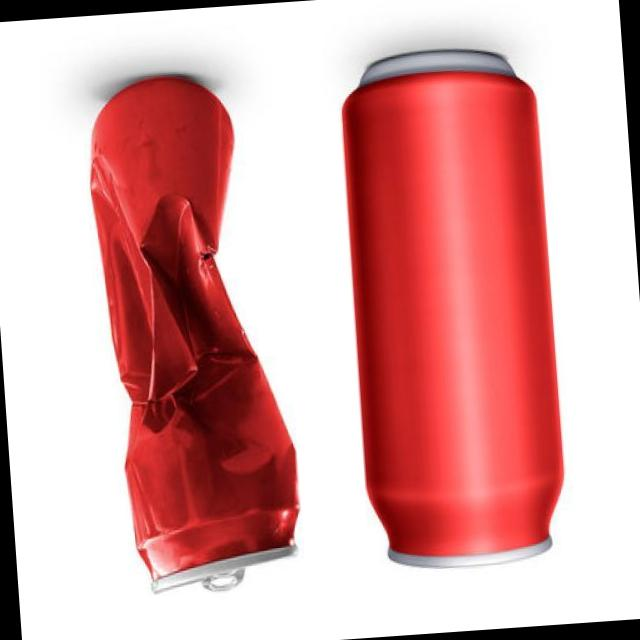Kaleng: (334, 43, 572, 576), (81, 69, 308, 601)
